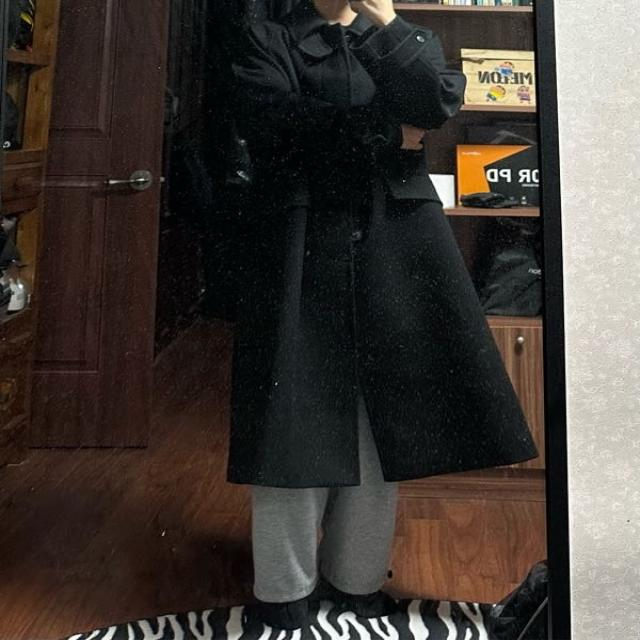coat: (229, 0, 543, 483), (250, 392, 399, 604)
